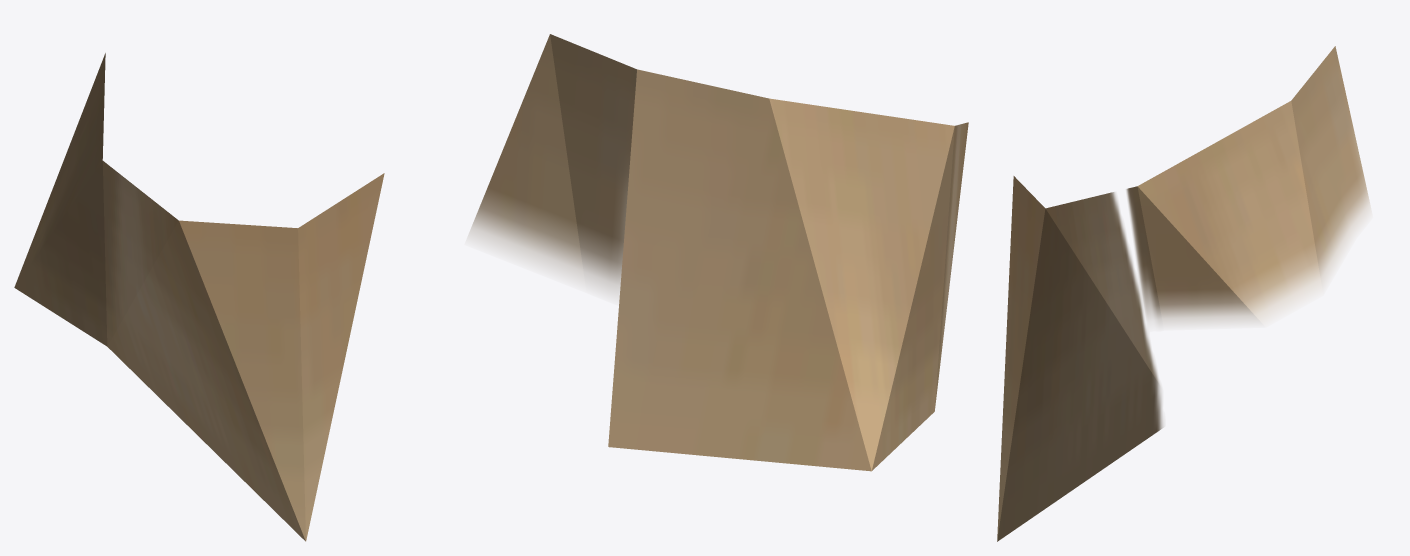
File: Armor_Thorus_Addon.glb
3 renders of one model, left to right at view 1: azimuth 30°, elevation 25°; view 2: azimuth 150°, elevation 25°; view 3: azimuth 270°, elevation 25°, orthographic. The views are drawn at different scales.
Parts seen in each view (by area): view 1: Armor_Thorus_Addonzm_Body; view 2: Armor_Thorus_Addonzm_Body; view 3: Armor_Thorus_Addonzm_Body.
Boxes of the visible parts, x1,y1,x2,y2 form: Armor_Thorus_Addonzm_Body: (14, 53, 384, 541); Armor_Thorus_Addonzm_Body: (469, 34, 968, 471); Armor_Thorus_Addonzm_Body: (997, 46, 1370, 541).
Size of the model in its own units: 0.1449 by 0.1918 by 0.1387.
Materials: 1 (1 with a texture image).
